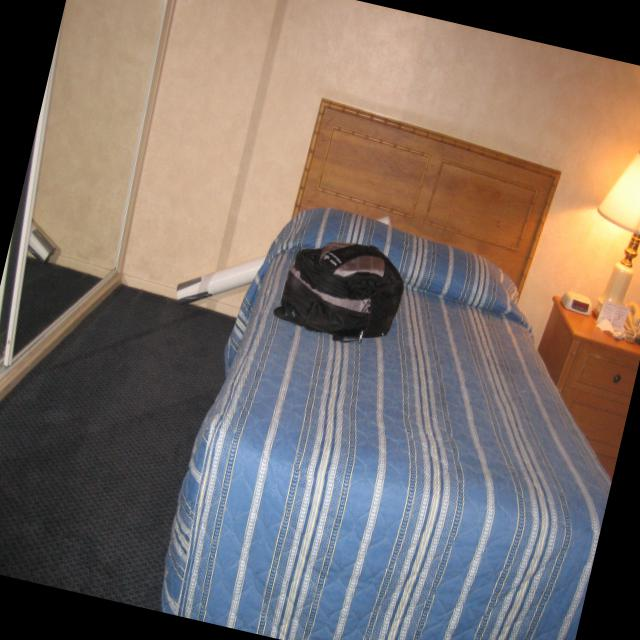alarm: (560, 291, 592, 316)
bed -occluded-: (160, 204, 611, 640)
floor -X: (0, 282, 617, 640)
headboard: (292, 101, 559, 290)
lamp crop: (591, 149, 640, 323)
mirror crop: (9, 0, 168, 364)
sign: (595, 299, 630, 330)
table -X: (537, 296, 640, 477)
telephone booth: (622, 301, 640, 340)
tube: (175, 216, 391, 305)
wall clock: (120, 0, 640, 449)
